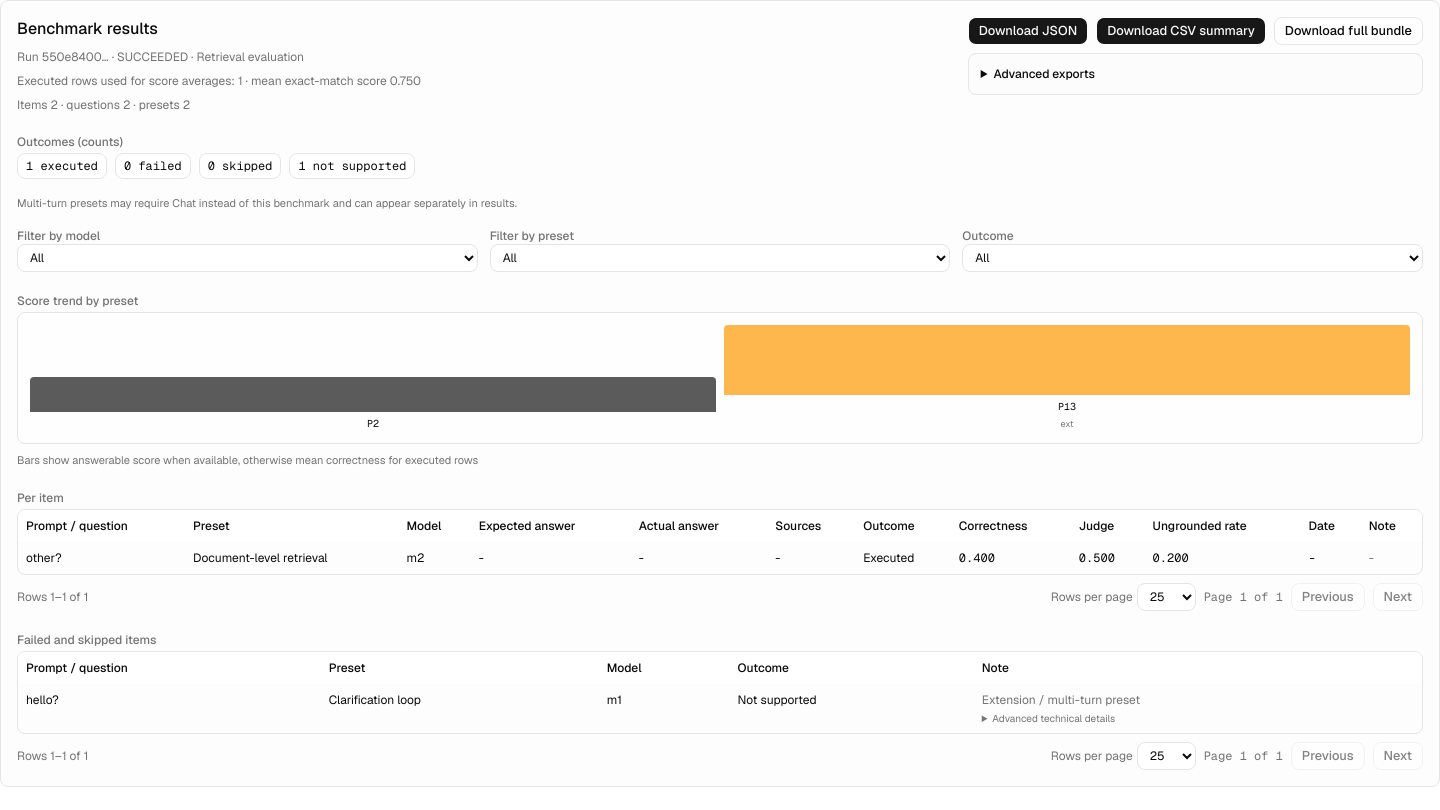
Scenario: LabBenchmarkResultsPanel › loads rollups and shows outcome badges when enabled
This screenshot has width=1440, height=810.
Expected: the text "1 not supported" is shown, [289,153,415,179]
Expected: the text with test id "lab-outcome-EXECUTED" shows "1", [26,158,98,174]
Select "m2" in the dropdown with test id "lab-results-filter-model" at (247, 258), box [17,244,478,272]
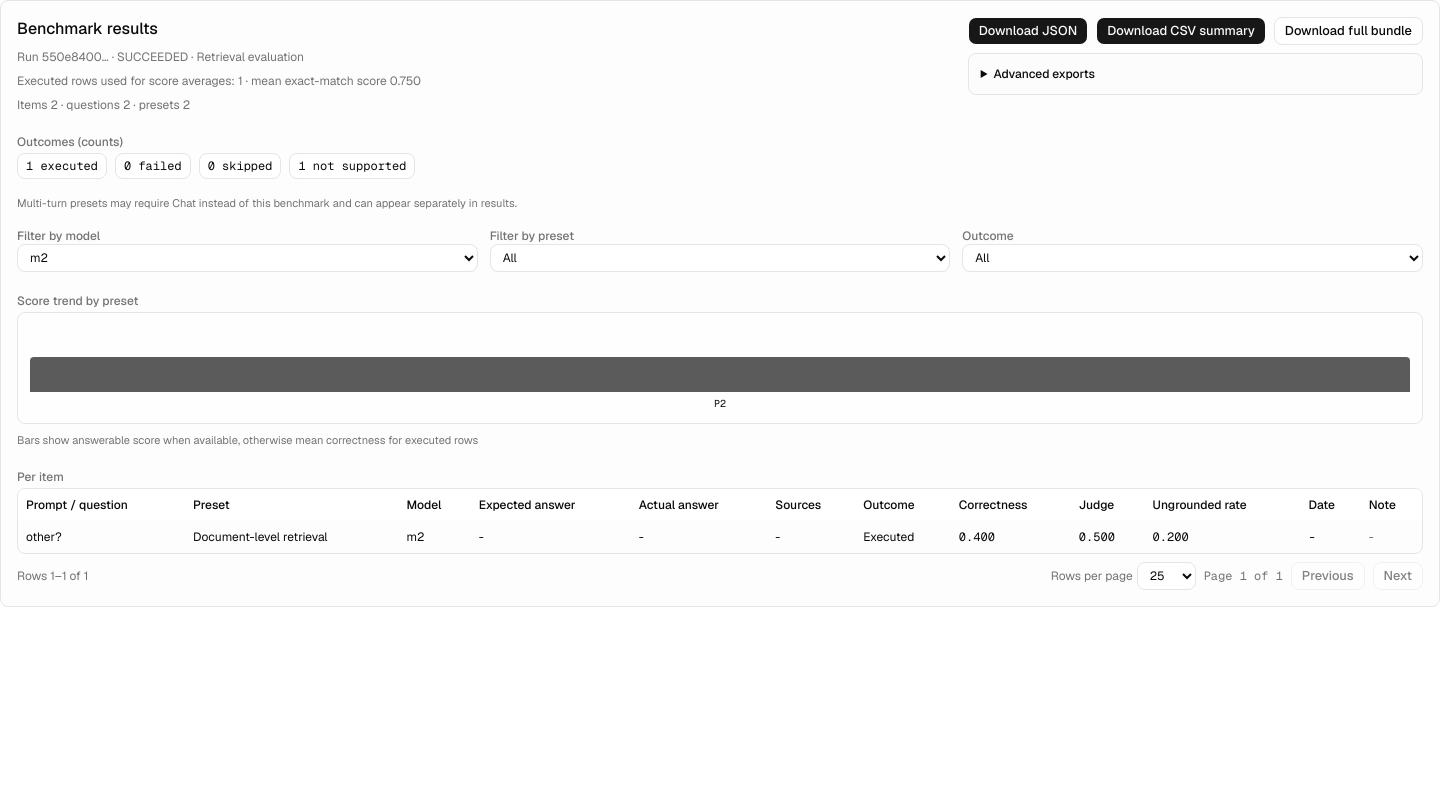
Expected: the text "other?" is shown, [26,529,62,545]
Expected: the text "hello?" is gone
